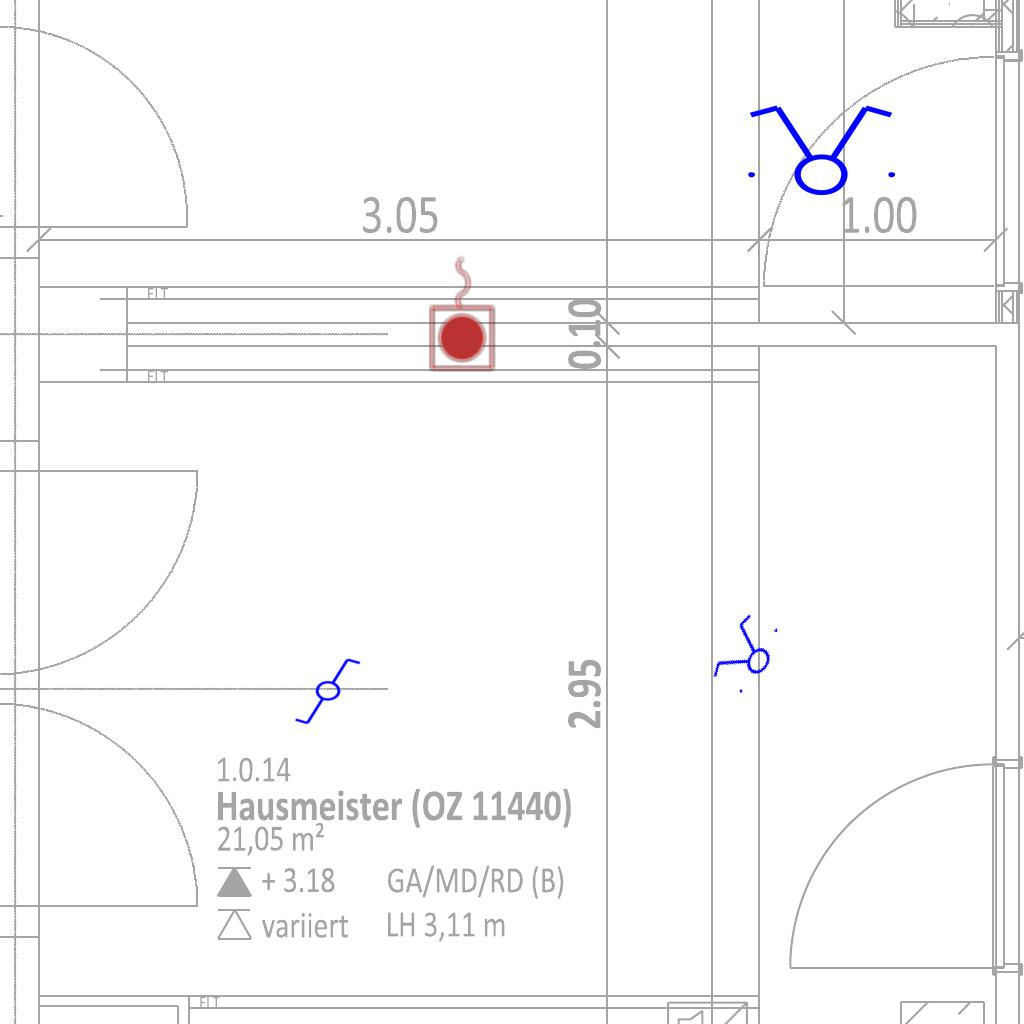Serienschalter: (736, 101, 904, 197), (705, 606, 789, 704)
Wechselschalter: (293, 656, 371, 728)
Zugtaster: (427, 252, 499, 374)
